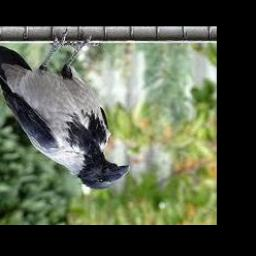Crow: (0, 29, 129, 190)
